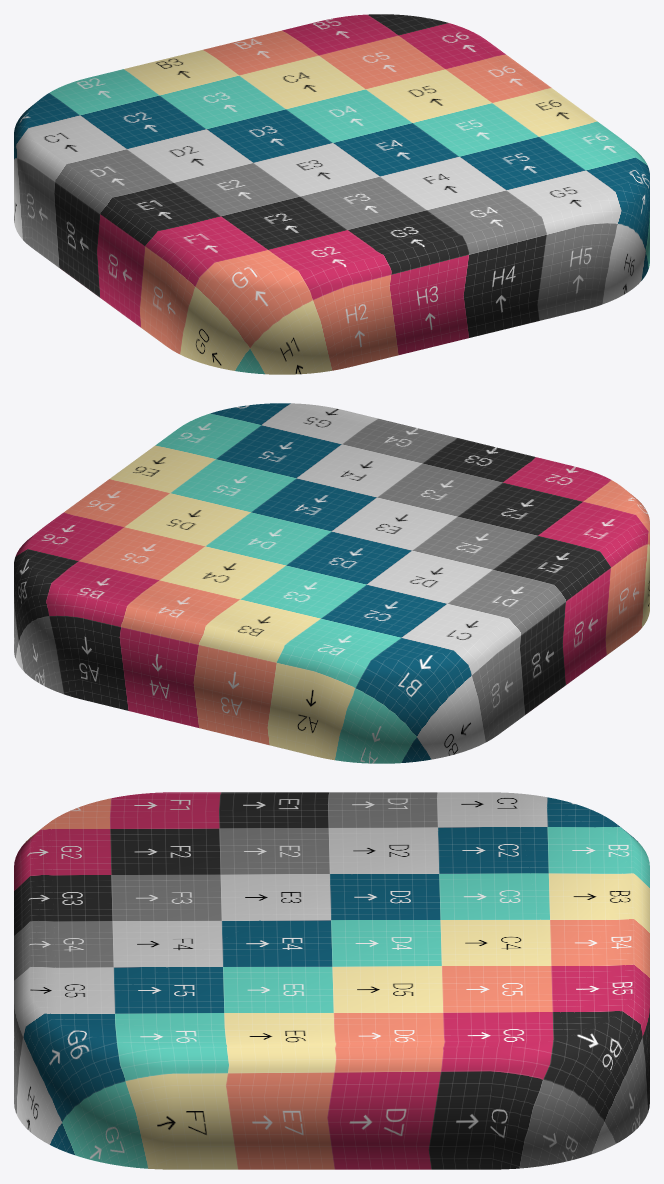
The model's file is Icon.glb.
The picture shows the model from 3 angles, top to bottom: view 1: azimuth 30°, elevation 25°; view 2: azimuth 150°, elevation 25°; view 3: azimuth 270°, elevation 25°; orthographic projection. The views are drawn at different scales.
Visible parts, largest first — view 1: Cube; view 2: Cube; view 3: Cube.
Boxes of the visible parts, left/top/right/bottom form: Cube: left=14, top=14, right=649, bottom=374; Cube: left=14, top=403, right=649, bottom=763; Cube: left=14, top=792, right=649, bottom=1169.
Size of the model in its own units: 2 by 0.4 by 2.
1 material, 1 textured.
